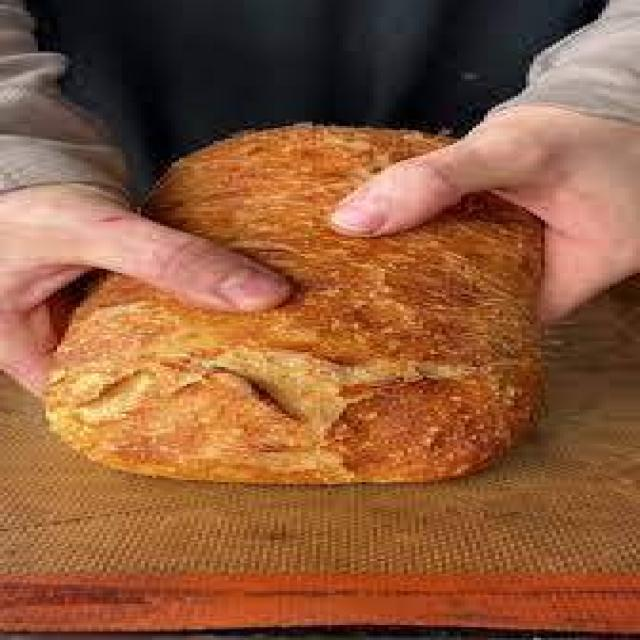Ciabatta: (50, 124, 537, 482)
